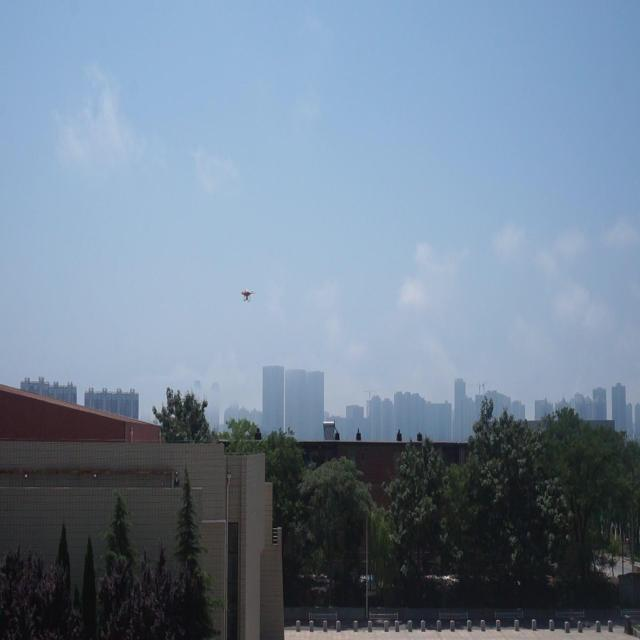drone: (241, 286, 254, 304)
